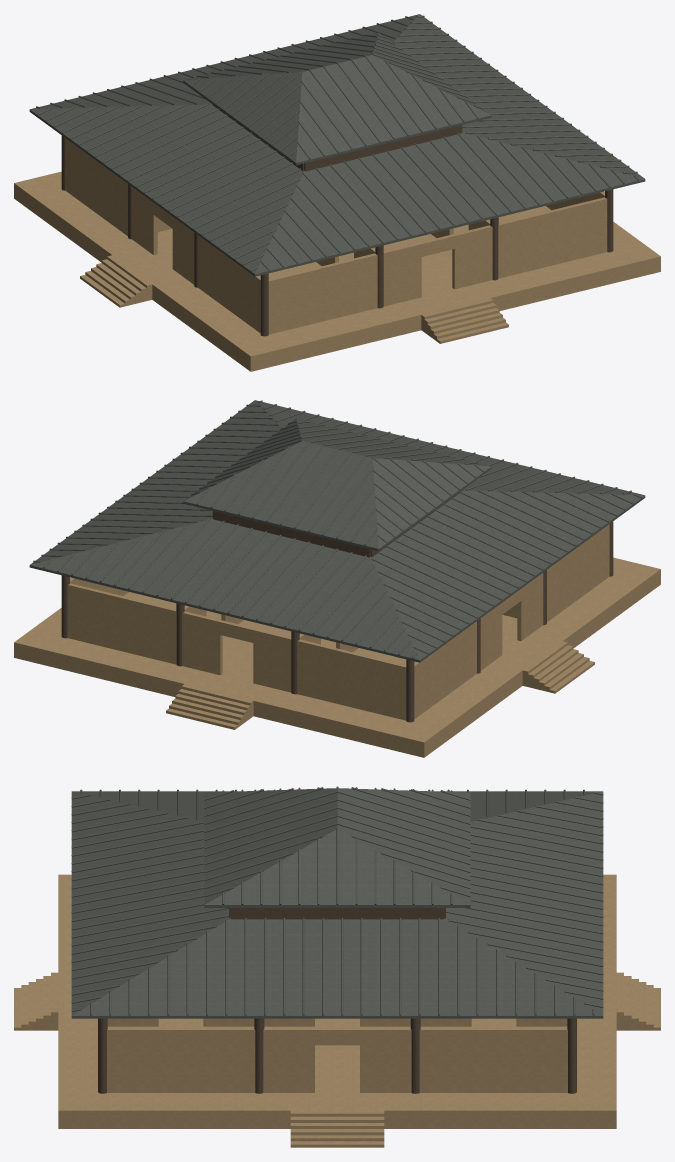
The model's file is mingtang-B-LOD1.glb.
3 views of the same model, one above another, from view 1: azimuth 30°, elevation 25°; view 2: azimuth 150°, elevation 25°; view 3: azimuth 270°, elevation 25° (orthographic). The views are drawn at different scales.
Parts seen in each view (by area): view 1: mingtang-B-static_tile, mingtang-B-static_earth, mingtang-B-static_timber; view 2: mingtang-B-static_tile, mingtang-B-static_earth, mingtang-B-static_timber; view 3: mingtang-B-static_tile, mingtang-B-static_earth, mingtang-B-static_timber.
Boxes of the visible parts, x1,y1,x2,y2 form: mingtang-B-static_tile: (29, 14, 645, 276); mingtang-B-static_earth: (14, 138, 660, 371); mingtang-B-static_timber: (61, 104, 613, 336); mingtang-B-static_tile: (29, 400, 645, 662); mingtang-B-static_earth: (14, 524, 660, 757); mingtang-B-static_timber: (61, 490, 613, 722); mingtang-B-static_tile: (71, 786, 603, 1018); mingtang-B-static_earth: (14, 874, 660, 1147); mingtang-B-static_timber: (98, 908, 576, 1093).
Size of the model in its own units: 28.96 by 10.08 by 28.96.
3 materials, 3 textured.
